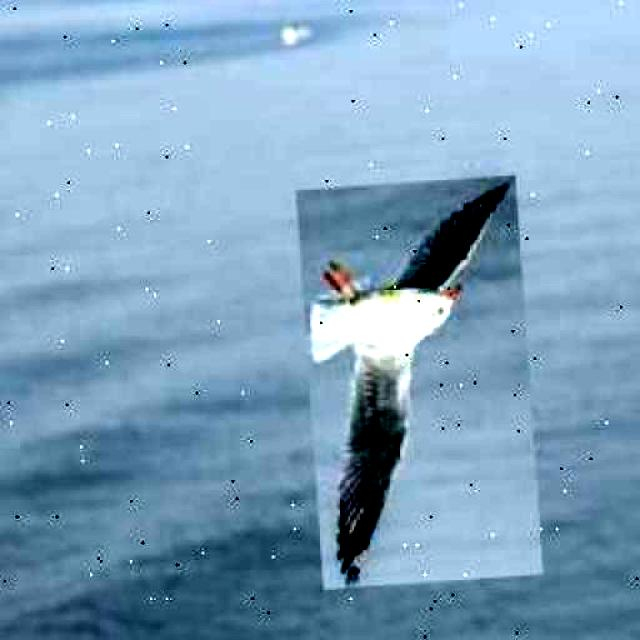airplane: (296, 175, 542, 589)
